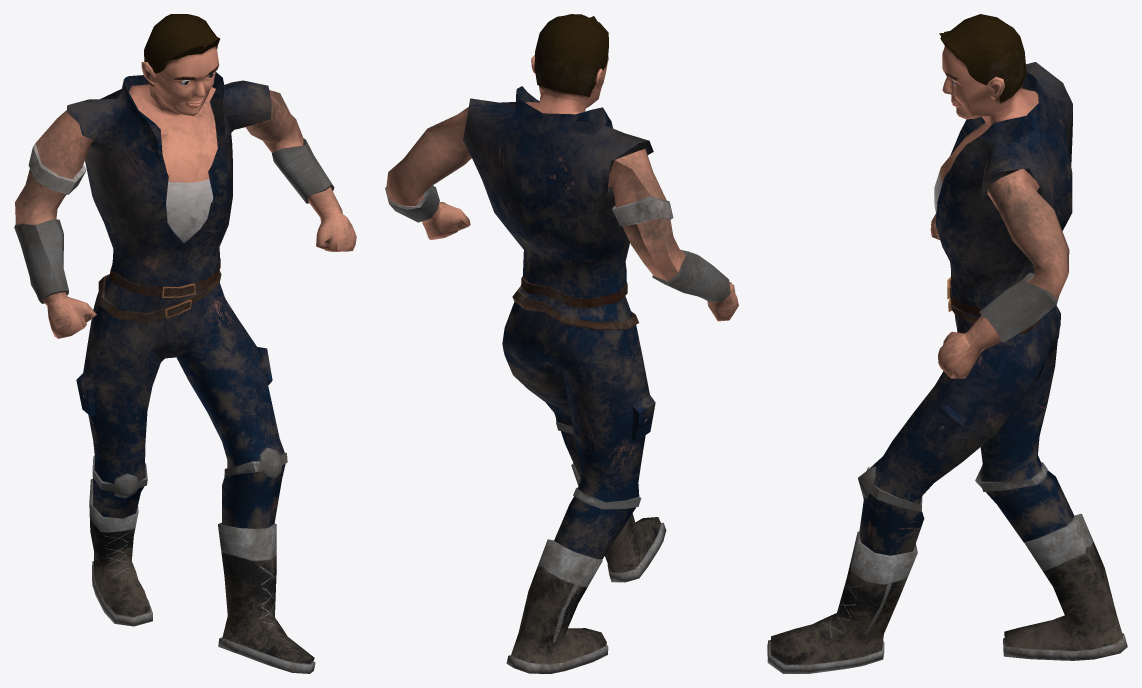
Rendered from Anim_ataque_f1_jugador.0013.obj.
3 renders of one model, left to right at view 1: azimuth 30°, elevation 25°; view 2: azimuth 150°, elevation 25°; view 3: azimuth 270°, elevation 25°, orthographic. The views are drawn at different scales.
Parts seen in each view (by area): view 1: polySurface1; view 2: polySurface1; view 3: polySurface1.
Part boxes in pixels (box(x1,y1,x2,y2)): polySurface1: box(14, 14, 356, 673); polySurface1: box(385, 14, 738, 673); polySurface1: box(767, 14, 1127, 673).
Size of the model in its own units: 4.94 by 9.27 by 4.67.
